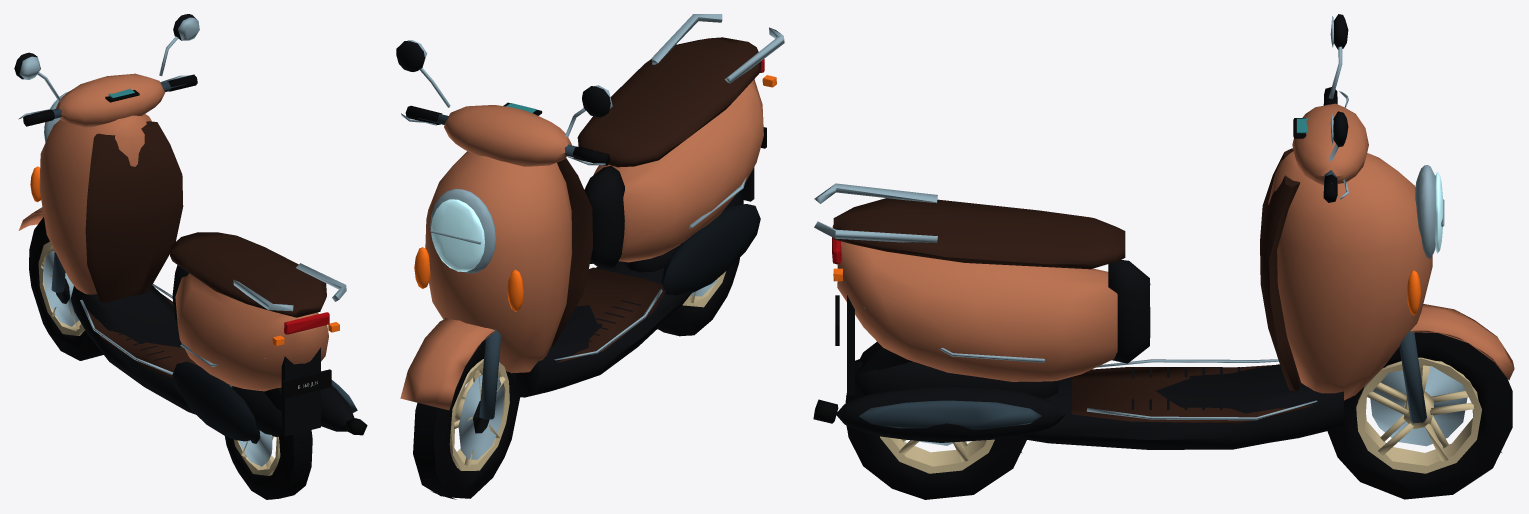
File: retro_scooter_terracotta_lod1.glb
3 renders of one model, left to right at view 1: azimuth 30°, elevation 25°; view 2: azimuth 150°, elevation 25°; view 3: azimuth 270°, elevation 25°, orthographic. The views are drawn at different scales.
Visible parts, largest first — view 1: Body_Mesh, Steering_Pivot_Mesh, Wheel_Rear_Mesh, Wheel_Front_Mesh, TailLights_Mesh, Indicators_Mesh; view 2: Body_Mesh, Steering_Pivot_Mesh, Wheel_Front_Mesh, Headlights_Mesh, Wheel_Rear_Mesh, Indicators_Mesh; view 3: Body_Mesh, Wheel_Front_Mesh, Steering_Pivot_Mesh, Wheel_Rear_Mesh, Headlights_Mesh.
Boxes of the visible parts, <box> form: Body_Mesh: <box>39,114,367,441</box>; Steering_Pivot_Mesh: <box>14,14,199,292</box>; Wheel_Rear_Mesh: <box>225,387,312,499</box>; Wheel_Front_Mesh: <box>29,217,103,360</box>; TailLights_Mesh: <box>284,312,329,334</box>; Indicators_Mesh: <box>30,166,339,345</box>; Body_Mesh: <box>425,14,784,397</box>; Steering_Pivot_Mesh: <box>396,40,612,419</box>; Wheel_Front_Mesh: <box>413,339,519,499</box>; Headlights_Mesh: <box>430,188,496,273</box>; Wheel_Rear_Mesh: <box>657,191,743,336</box>; Indicators_Mesh: <box>414,75,776,311</box>; Body_Mesh: <box>813,148,1432,449</box>; Wheel_Front_Mesh: <box>1327,332,1512,499</box>; Steering_Pivot_Mesh: <box>1292,14,1514,423</box>; Wheel_Rear_Mesh: <box>845,342,1026,499</box>; Headlights_Mesh: <box>1415,165,1444,259</box>.
Bounding box in the file's own units: 0.6925 × 1.24 × 1.83.
2 materials, 1 textured.
